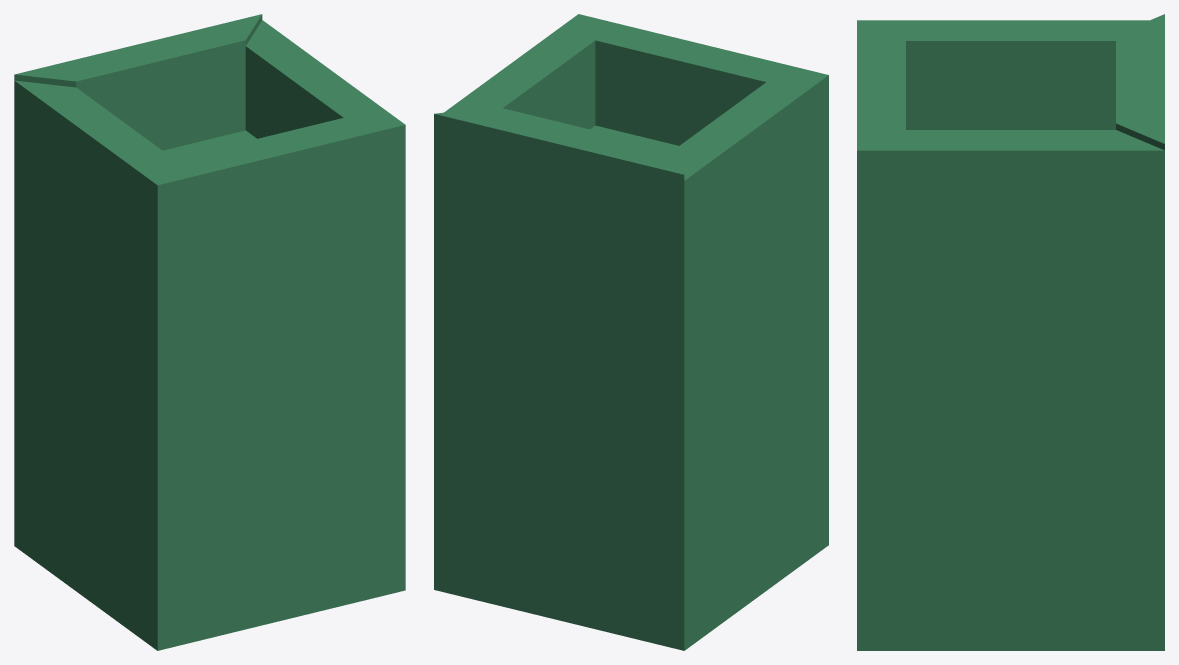
File: trashBin.fbx
The picture shows the model from 3 angles, left to right: view 1: azimuth 30°, elevation 25°; view 2: azimuth 150°, elevation 25°; view 3: azimuth 270°, elevation 25°; orthographic projection. The views are drawn at different scales.
Visible parts, largest first — view 1: pCube145; view 2: pCube145; view 3: pCube145.
Part boxes in pixels (x1,y1,x2,y2): pCube145: (14,14,405,650); pCube145: (434,14,828,650); pCube145: (857,14,1164,650).
Bounding box in the file's own units: 10.1 × 18.35 × 10.1.
